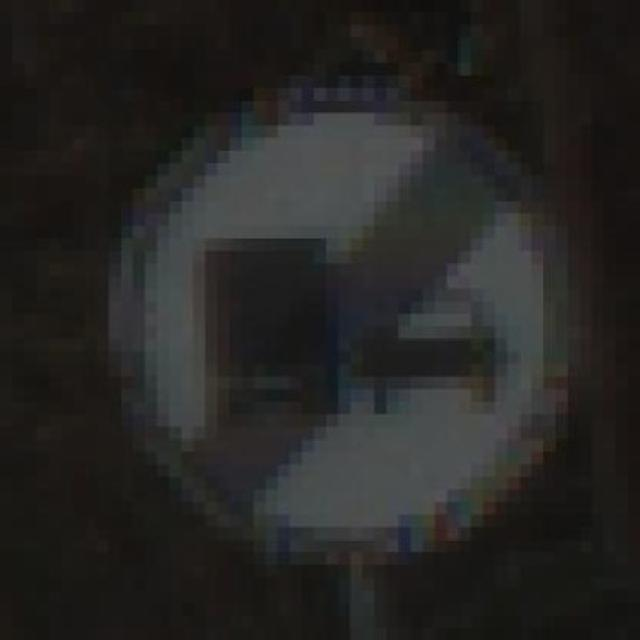Overtaking by trucks is prohibited: (84, 62, 604, 602)
